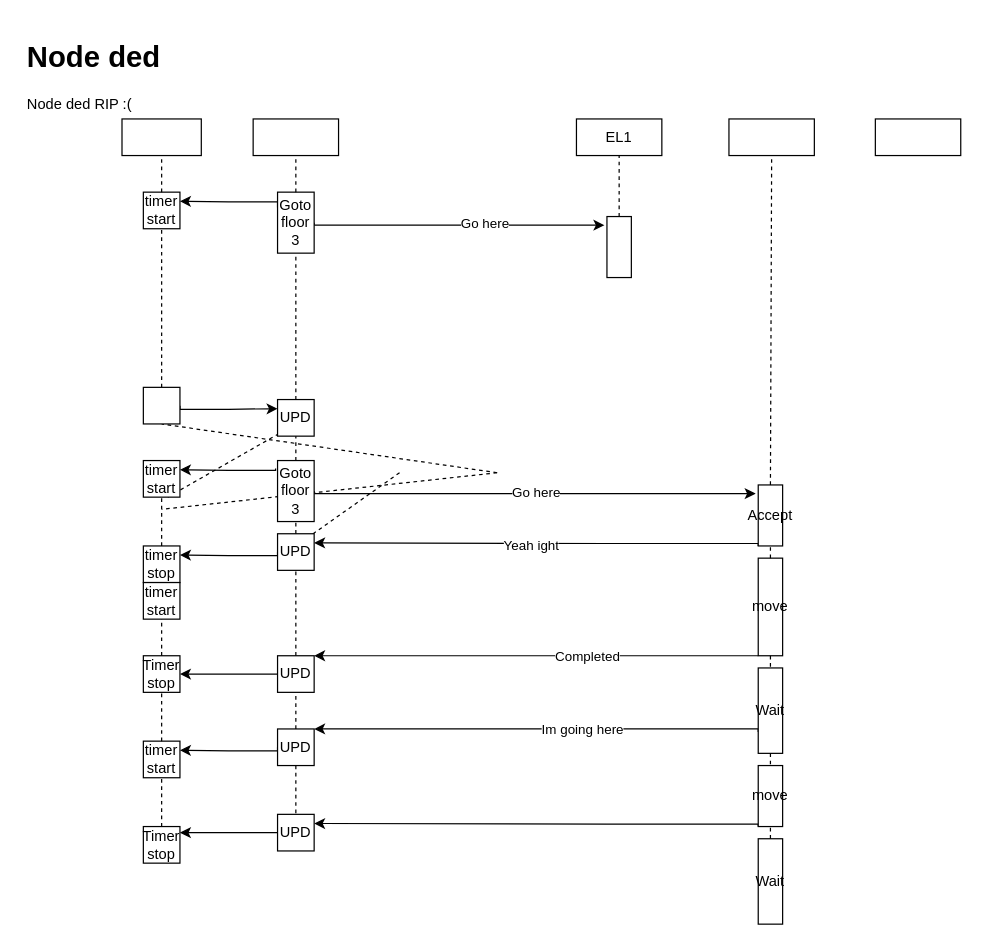
The diagram is 982 pixels wide and 946 high, and some of its shapes have lost their labels. The shapes that lost their labels are listed below. From the top down, each one's centre as x and y in pixels, then its label:
At pixel 161 137: "Timer".
At pixel 295 137: "Master".
At pixel 771 137: "EL2".
At pixel 917 137: "EL3".
At pixel 618 246: "Nah".
At pixel 161 405: "Time out".
